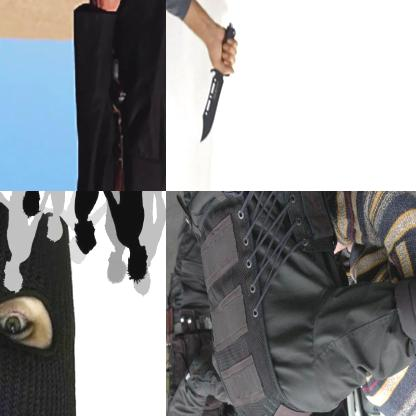knife: (189, 23, 243, 147)
